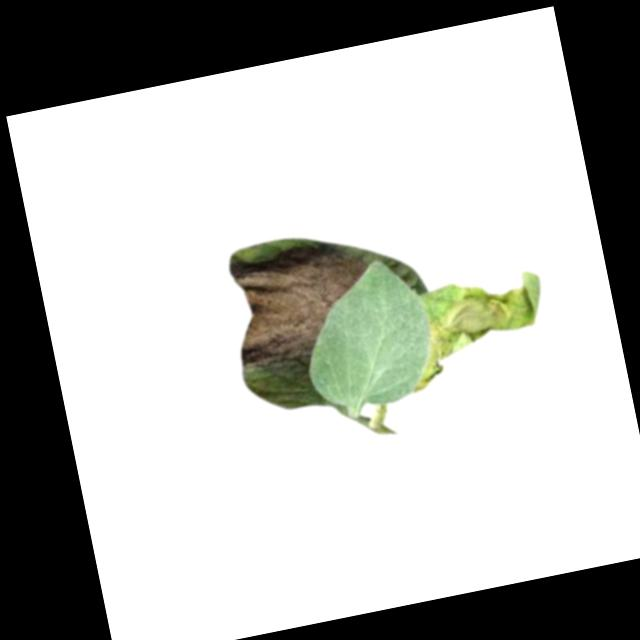Late_blight: (217, 233, 382, 376), (395, 269, 557, 394)
healthy: (288, 253, 442, 424)
